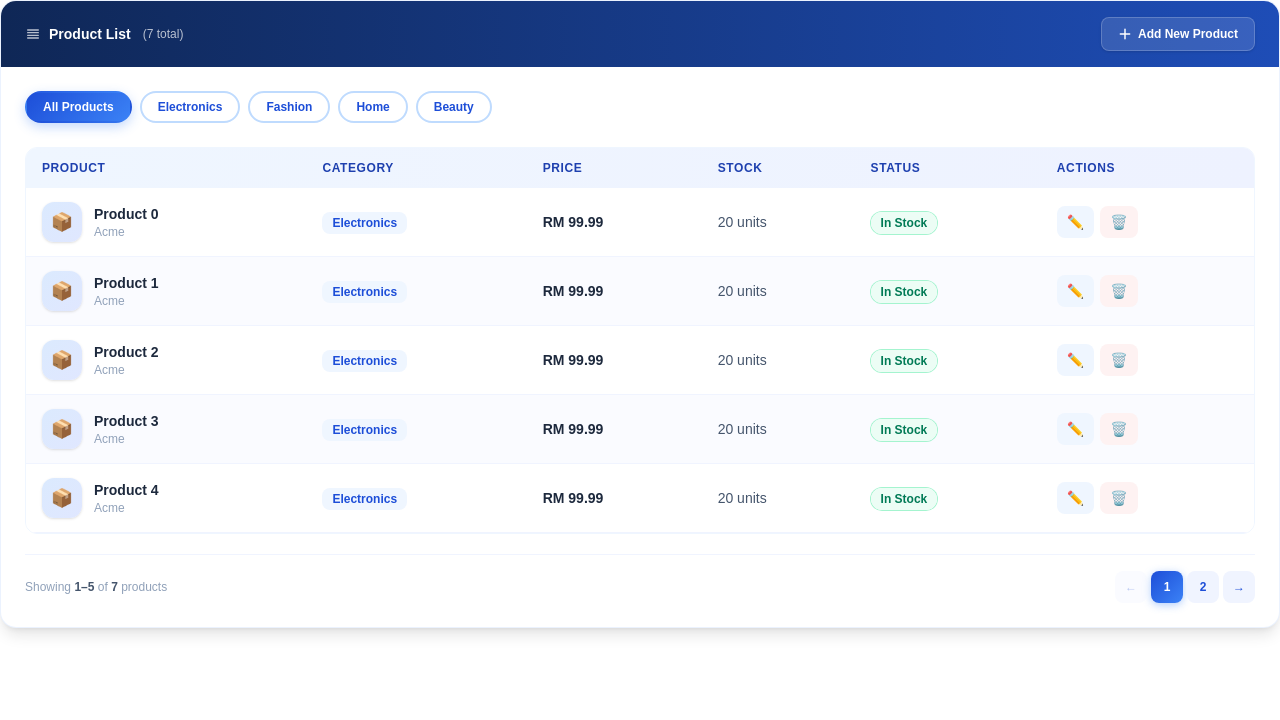
Test case: ProductsTable — pagination › navigates to page 2 on → click
This screenshot has width=1280, height=720.
Click the button "→": click(1239, 587) [1223,571,1255,603]
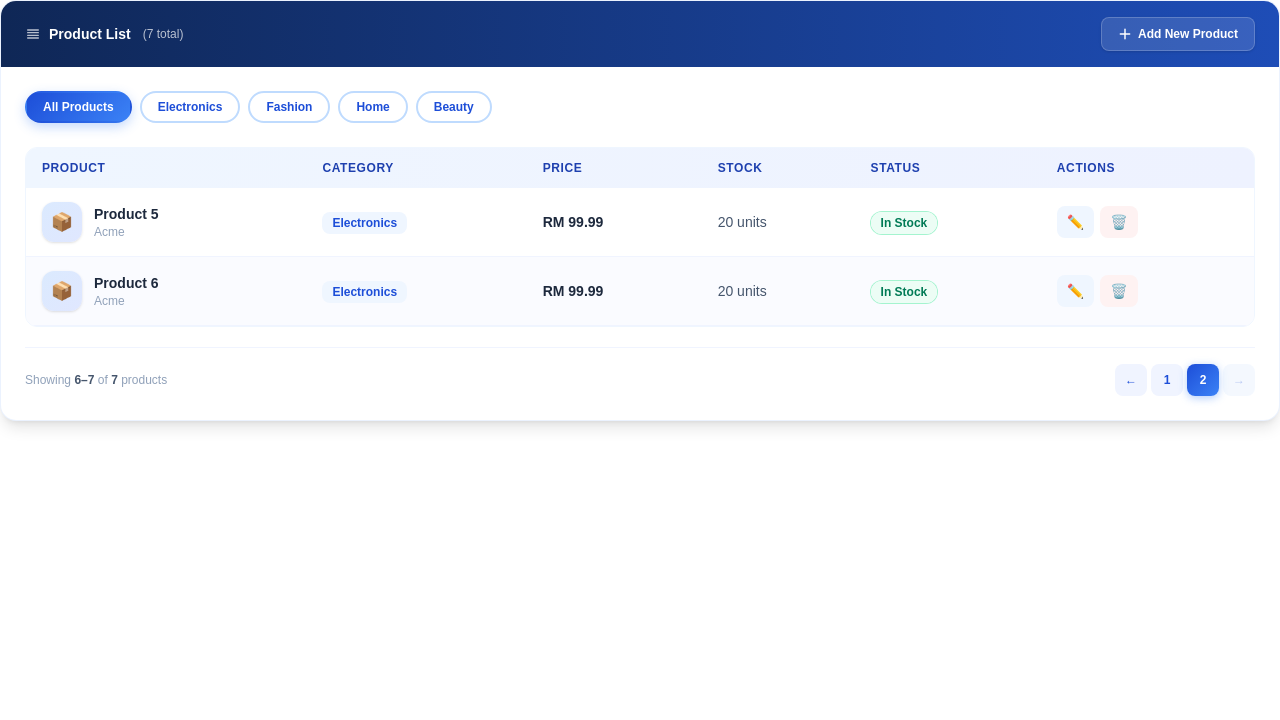
Expected: the text "Product 5" is shown, [94,204,159,224]
Expected: the text "Product 0" is gone
